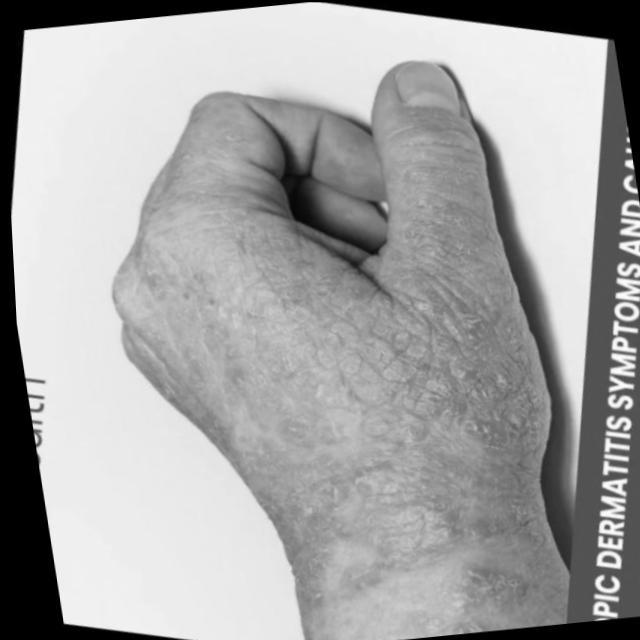Eczema: (186, 134, 563, 640)
